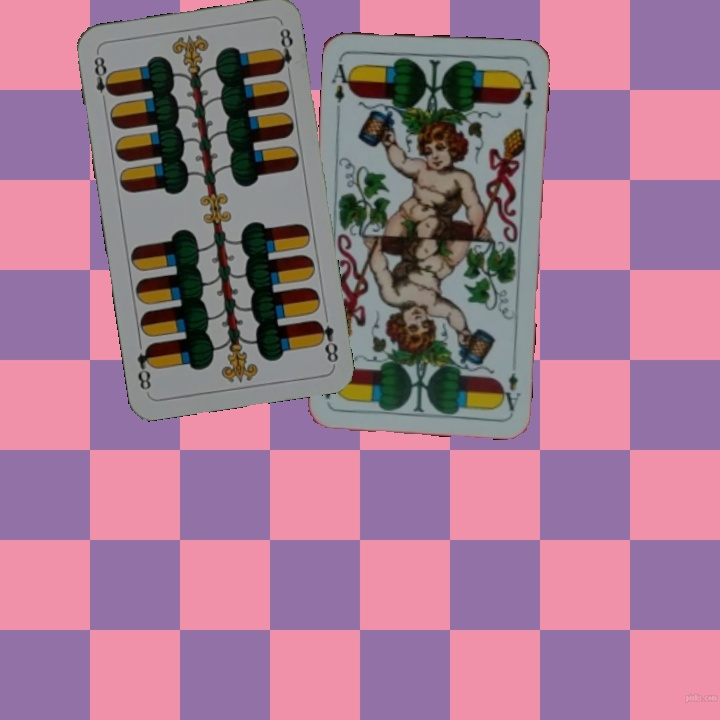E8: (90, 49, 117, 108), (311, 316, 341, 365)
EA: (328, 54, 356, 106), (496, 368, 523, 414)
